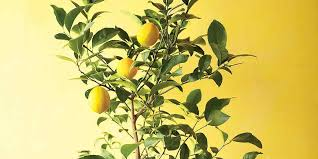orange: (135, 22, 160, 46), (89, 85, 110, 113), (114, 57, 137, 78)
